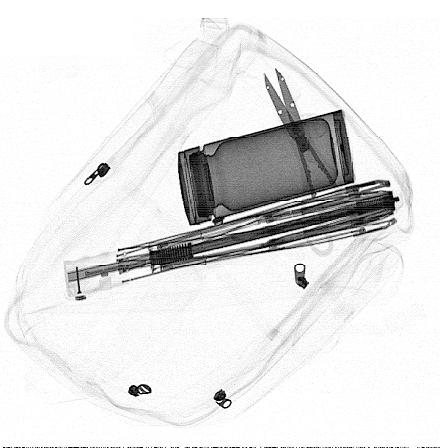Scissors: (264, 67, 366, 260)
